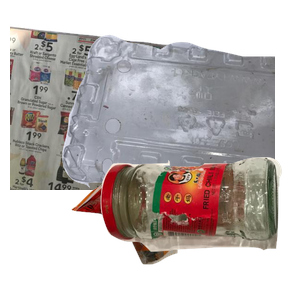glass: (98, 155, 300, 300)
paper: (10, 21, 222, 201)
plastic: (60, 32, 300, 212)
trash: (69, 153, 239, 300)
